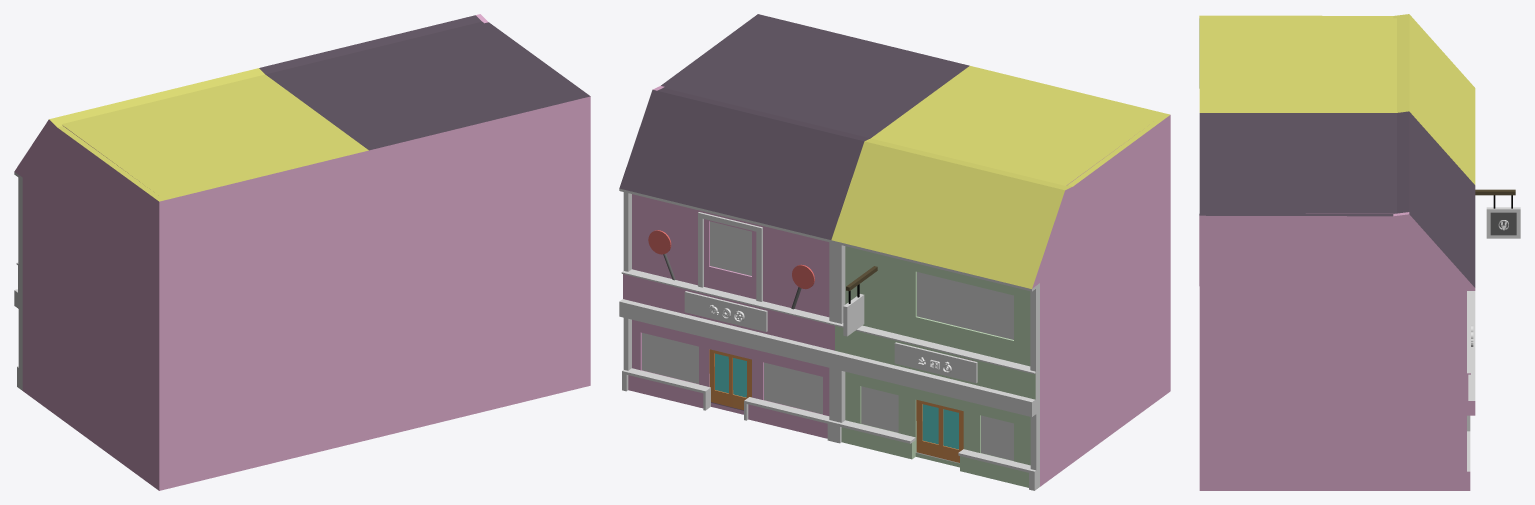
File: FESTIVAL BUILDING 2.fbx
3 renders of one model, left to right at view 1: azimuth 30°, elevation 25°; view 2: azimuth 150°, elevation 25°; view 3: azimuth 270°, elevation 25°, orthographic. The views are drawn at different scales.
Visible parts, largest first — view 1: Cube.008; view 2: Cube.008, Cube.034, Cube.021, Cube.020, Cube.019, Cube.018, Cylinder.005, Cube.023; view 3: Cube.008, Cube.023.
Part boxes in pixels (x1,y1,x2,y2): Cube.008: [14, 14, 590, 490]; Cube.008: [619, 14, 1170, 490]; Cube.034: [642, 221, 1013, 460]; Cube.021: [916, 399, 963, 462]; Cube.020: [709, 349, 751, 410]; Cube.019: [894, 342, 977, 383]; Cube.018: [684, 291, 767, 331]; Cylinder.005: [648, 230, 814, 309]; Cube.023: [843, 266, 877, 336]; Cube.008: [1199, 14, 1475, 490]; Cube.023: [1475, 189, 1520, 238].
Bounding box in the file's own units: 3725 × 2400 × 2523.
